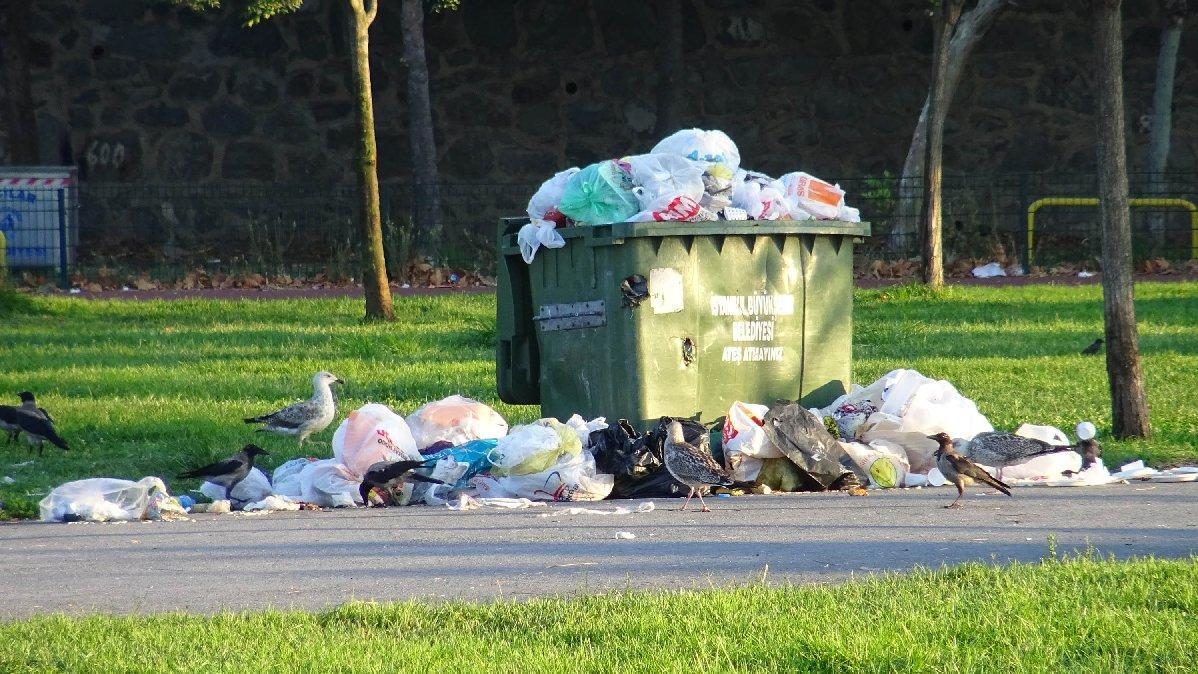Container: (496, 210, 874, 424), (3, 167, 80, 266)
Garbage: (833, 362, 986, 453), (564, 155, 691, 227), (508, 426, 616, 506), (434, 431, 513, 523), (778, 399, 843, 506), (38, 477, 182, 523), (519, 163, 585, 261), (716, 390, 786, 481), (411, 395, 517, 451), (879, 367, 980, 422), (646, 127, 740, 182), (596, 409, 652, 497), (279, 453, 352, 515), (336, 396, 414, 448), (772, 165, 841, 214), (1118, 452, 1191, 486), (720, 188, 802, 216), (558, 412, 607, 458), (257, 497, 296, 523), (179, 497, 209, 527)
